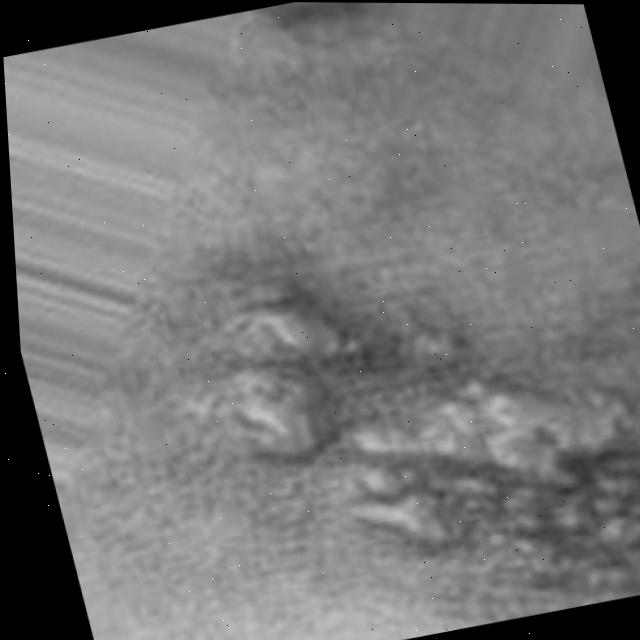Shingles: (155, 200, 640, 640)
